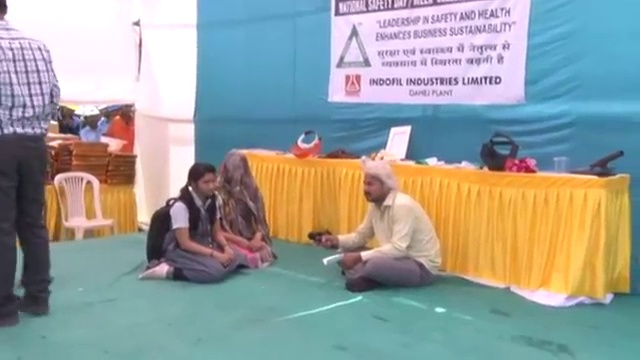helmet: (99, 136, 127, 153), (82, 107, 100, 117), (62, 103, 79, 112)
helmet_off: (354, 159, 399, 210), (220, 156, 256, 204), (182, 164, 215, 206), (116, 105, 134, 120)
helmet_on: (59, 102, 79, 119), (82, 106, 100, 121)
person: (0, 0, 61, 327), (322, 160, 442, 298), (149, 168, 257, 283), (214, 155, 281, 269), (96, 104, 134, 151), (79, 106, 106, 142), (53, 102, 79, 136)
